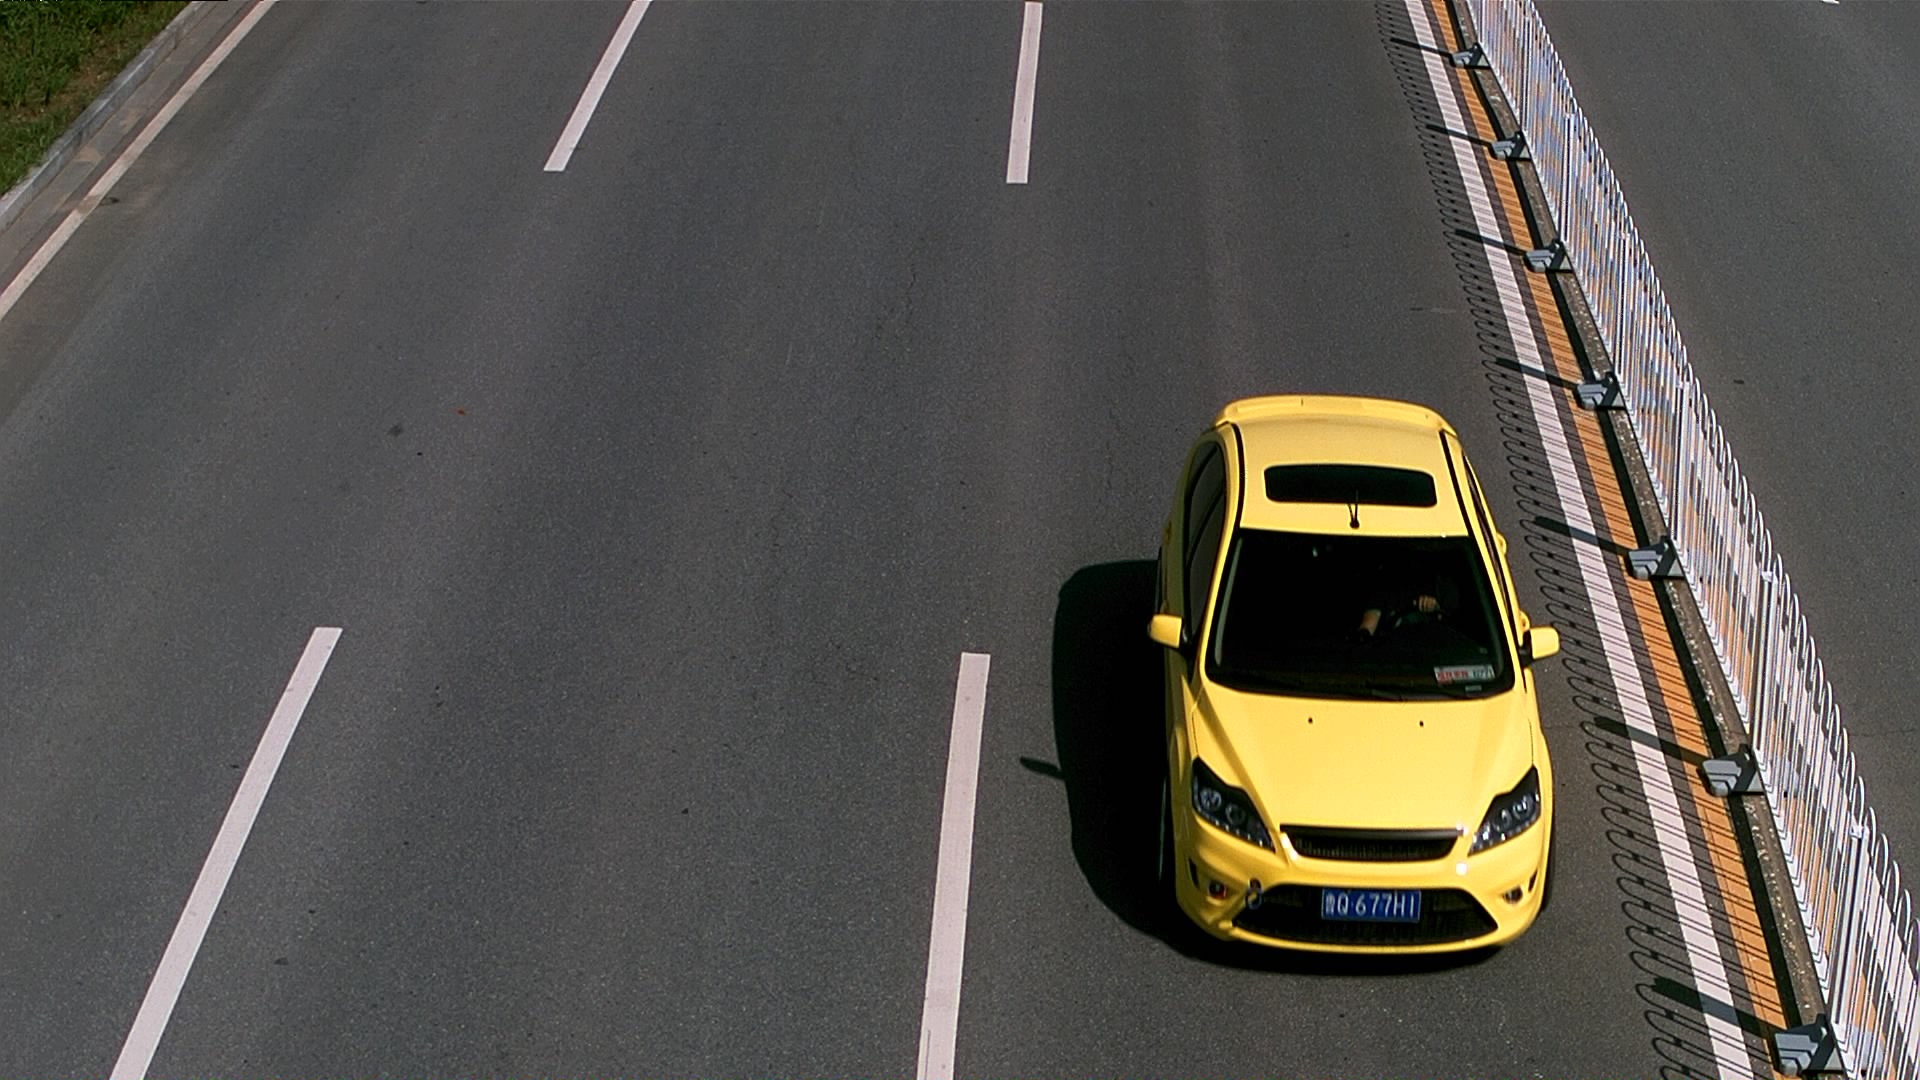car: (1115, 378, 1585, 999)
